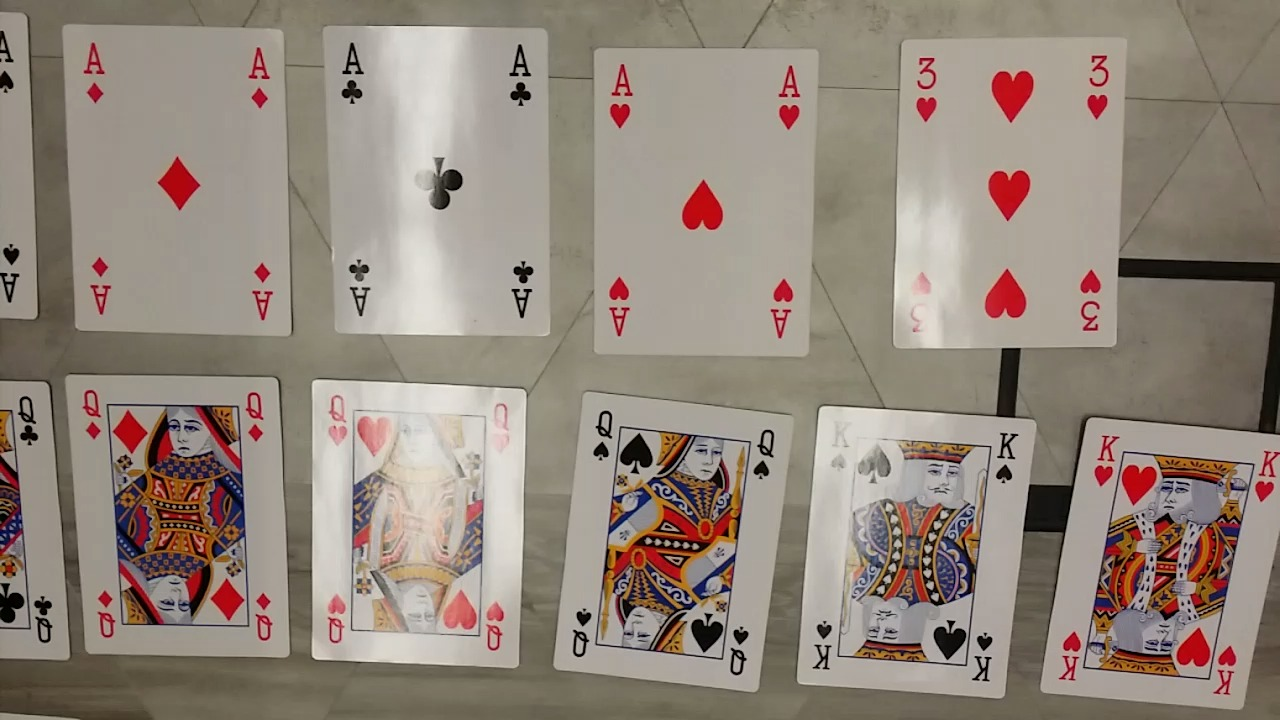1_club: (319, 24, 556, 335)
1_diamond: (59, 21, 293, 337)
1_heart: (592, 46, 822, 357)
3_heart: (892, 37, 1121, 347)
king_heart: (1038, 414, 1280, 712)
king_spade: (796, 403, 1036, 702)
queen_diamond: (61, 373, 291, 657)
queen_heart: (311, 374, 529, 668)
queen_spade: (551, 390, 792, 695)
